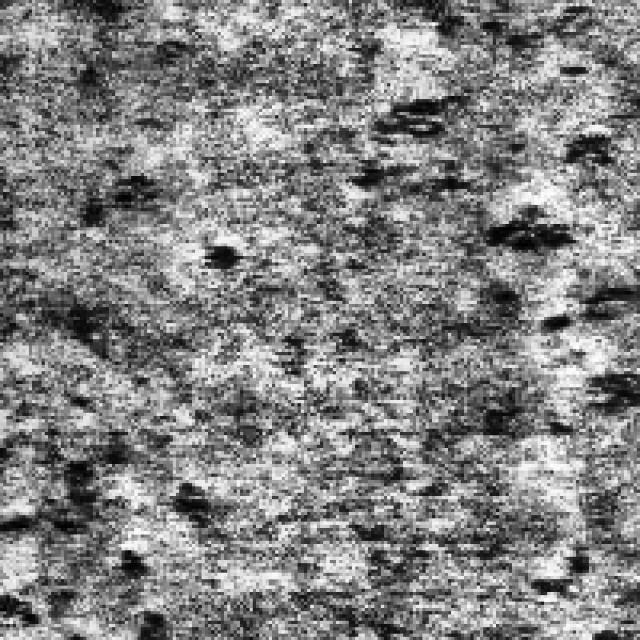Crazing: (477, 80, 637, 407), (0, 413, 211, 624), (339, 77, 474, 224)
